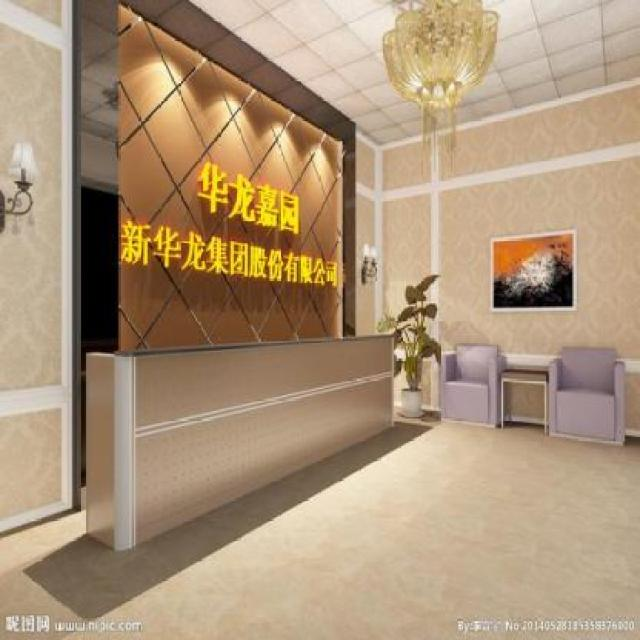frontdesk: (64, 320, 398, 545)
